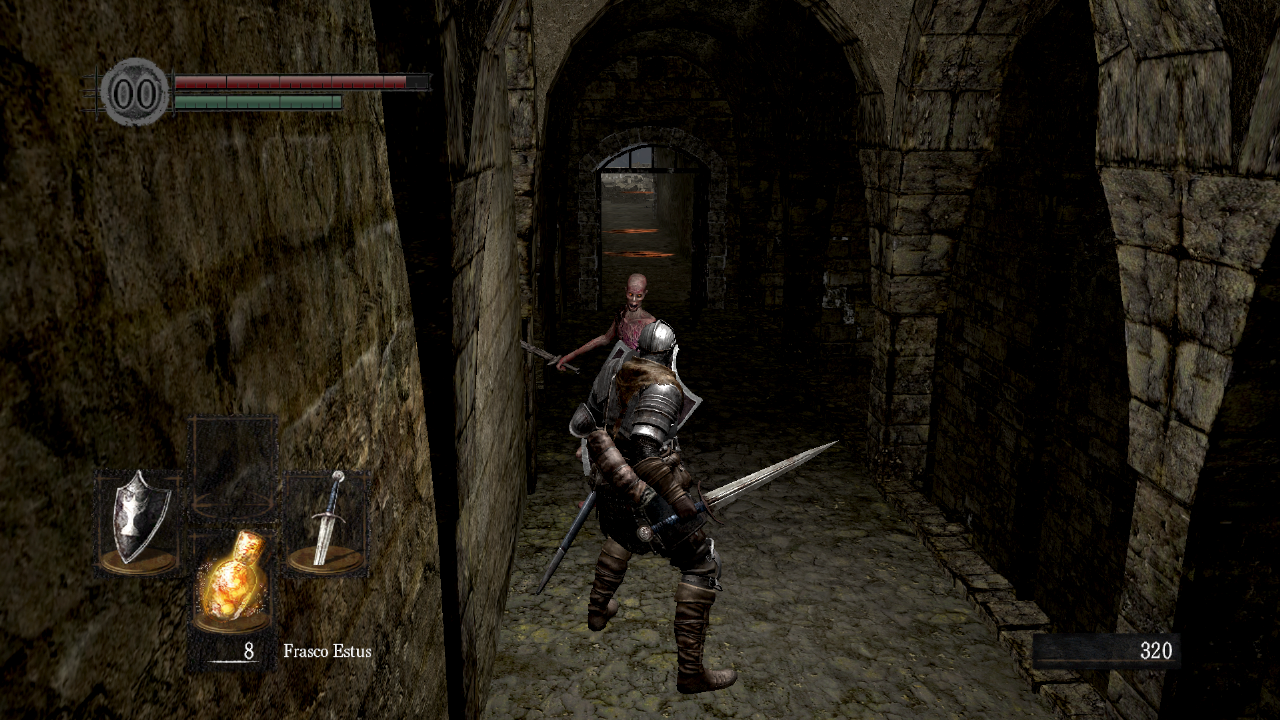hollow: (552, 273, 666, 374)
player: (535, 319, 839, 695)
